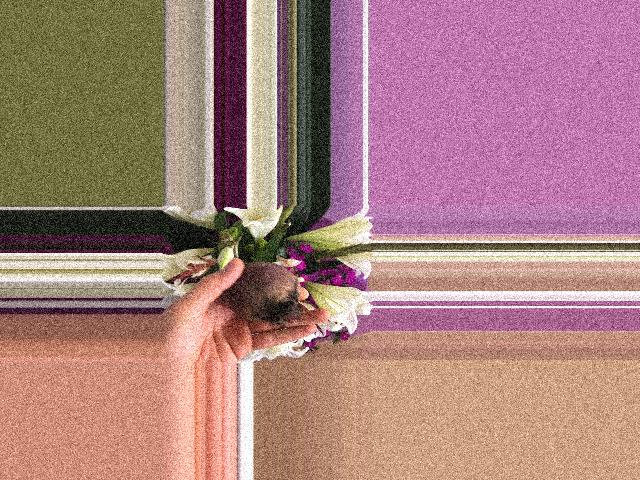beet: (224, 232, 302, 323)
